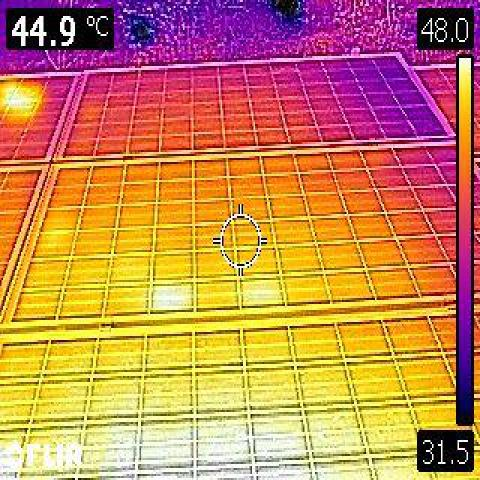fault: (156, 282, 192, 309)
